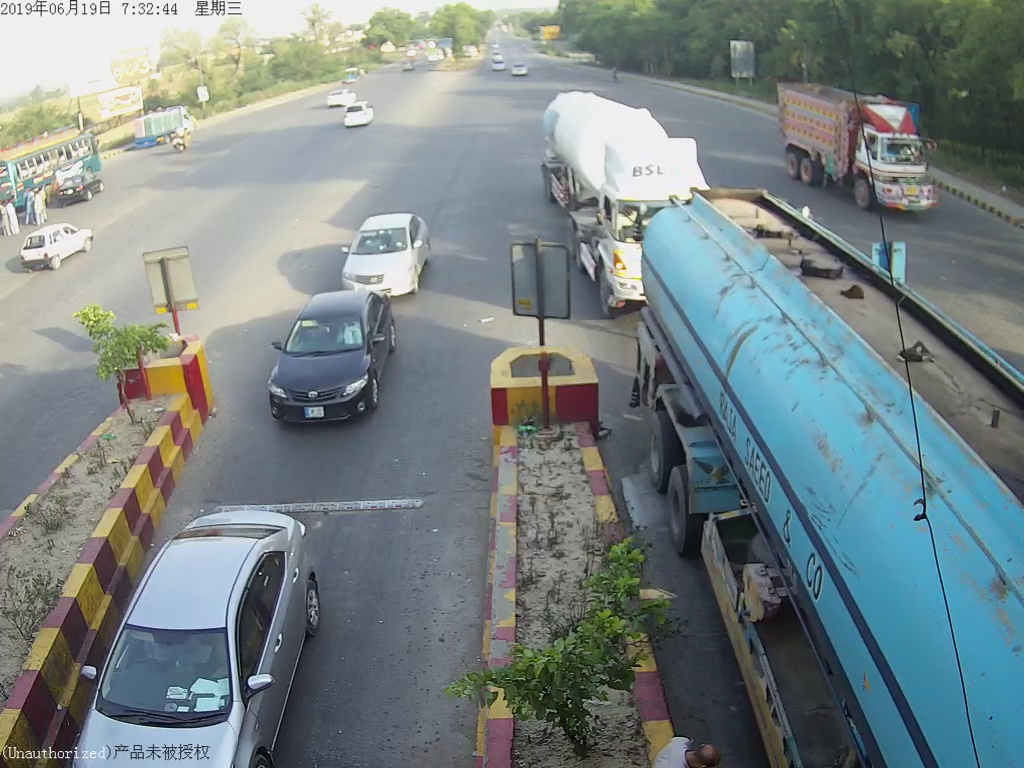Cat-1: (109, 522, 327, 739), (270, 295, 405, 417), (343, 210, 434, 300)
